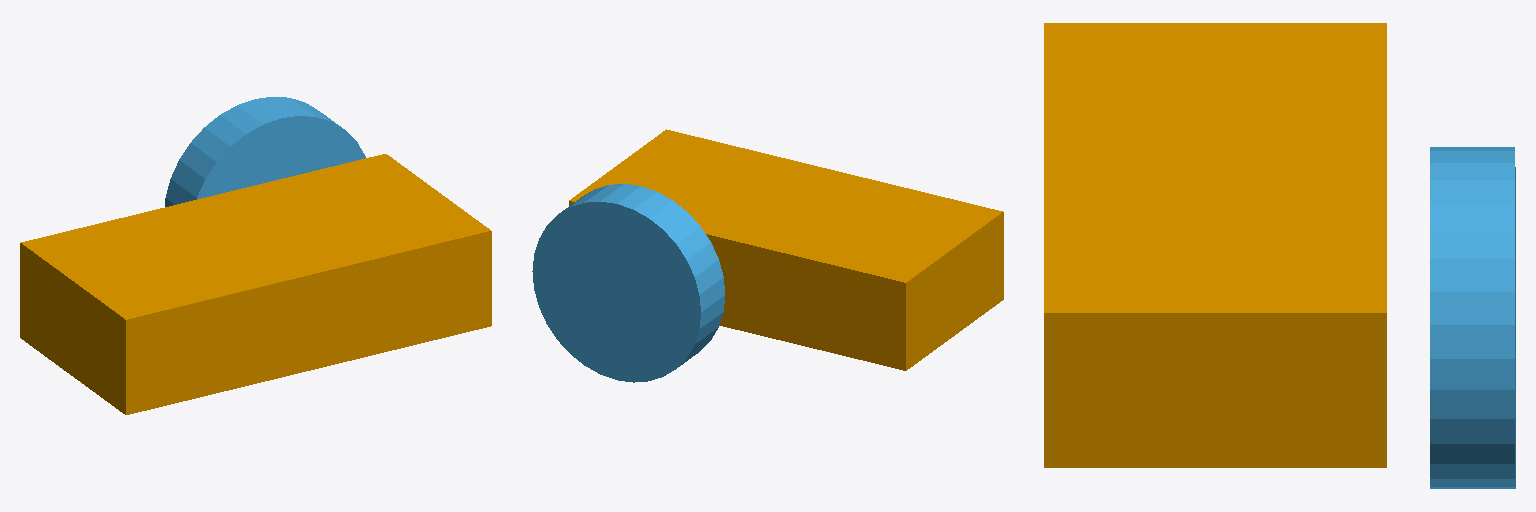
robot.urdf — nas_robot:
<?xml version="1.0"?>
<robot name="nas_robot">

<!-- ma len 1 link => jednu cast - valec-->
<link name="telo">
    <visual name='telo_visual'>
        <!-- xyz je posunutie a roll pitch yaw-orientacia/rotacia v priestore-->
        <origin xyz="0 0 0" rpy="0 0 0"/>
            <geometry>
                <box size="0.4 0.2 0.1"/>
            </geometry>
        </visual>
    <collision name='telo_collision'>
        <geometry>
            <box size="0.4 0.2 0.1"/>
        </geometry>
    </collision>
</link>

<link name="lave_koleso">
<visual name="lave_koleso_visual">
<origin xyz="0 0 0" rpy="0 1.5707 1.5707"/>
<geometry>
<cylinder radius="0.1" length="0.05"/>
</geometry>
</visual>
<collision name="lave_koleso_collision">
<origin xyz="0 0 0" rpy="0 1.5707 1.5707"/>
<geometry>
<cylinder radius="0.1" length="0.05"/>
</geometry>
</collision>
</link>

<joint type="continuous" name="lave_koleso_zaves">
<origin xyz="0.1 0.15 0" rpy="0 0 0"/>
<child link="lave_koleso"/>
<parent link="telo"/>
<axis xyz="0 1 0" rpy="0 0 0"/>
</joint>

</robot>

--- Render facts (derived) ---
3 views of the same robot in one strip: view 1: azimuth 30°, elevation 25°; view 2: azimuth 150°, elevation 25°; view 3: azimuth 270°, elevation 25° (orthographic).
Model nas_robot with 2 links and 1 joints (1 continuous), rooted at telo, posed every joint at zero.
Links seen in each view (by area): view 1: telo, lave_koleso; view 2: telo, lave_koleso; view 3: telo, lave_koleso.
Link boxes in pixels (left/top/right/bottom): telo: left=20, top=154, right=491, bottom=414; lave_koleso: left=165, top=97, right=365, bottom=206; telo: left=569, top=129, right=1003, bottom=370; lave_koleso: left=532, top=184, right=724, bottom=382; telo: left=1044, top=23, right=1386, bottom=467; lave_koleso: left=1430, top=147, right=1515, bottom=488.
Size in the robot's own frame: 0.4 by 0.275 by 0.2 metres.
Geometry: primitives only (box / cylinder / sphere), no mesh files.